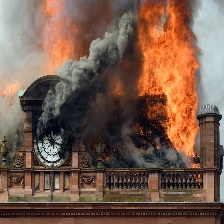fire: (137, 1, 201, 176)
smoke: (36, 15, 131, 142)
